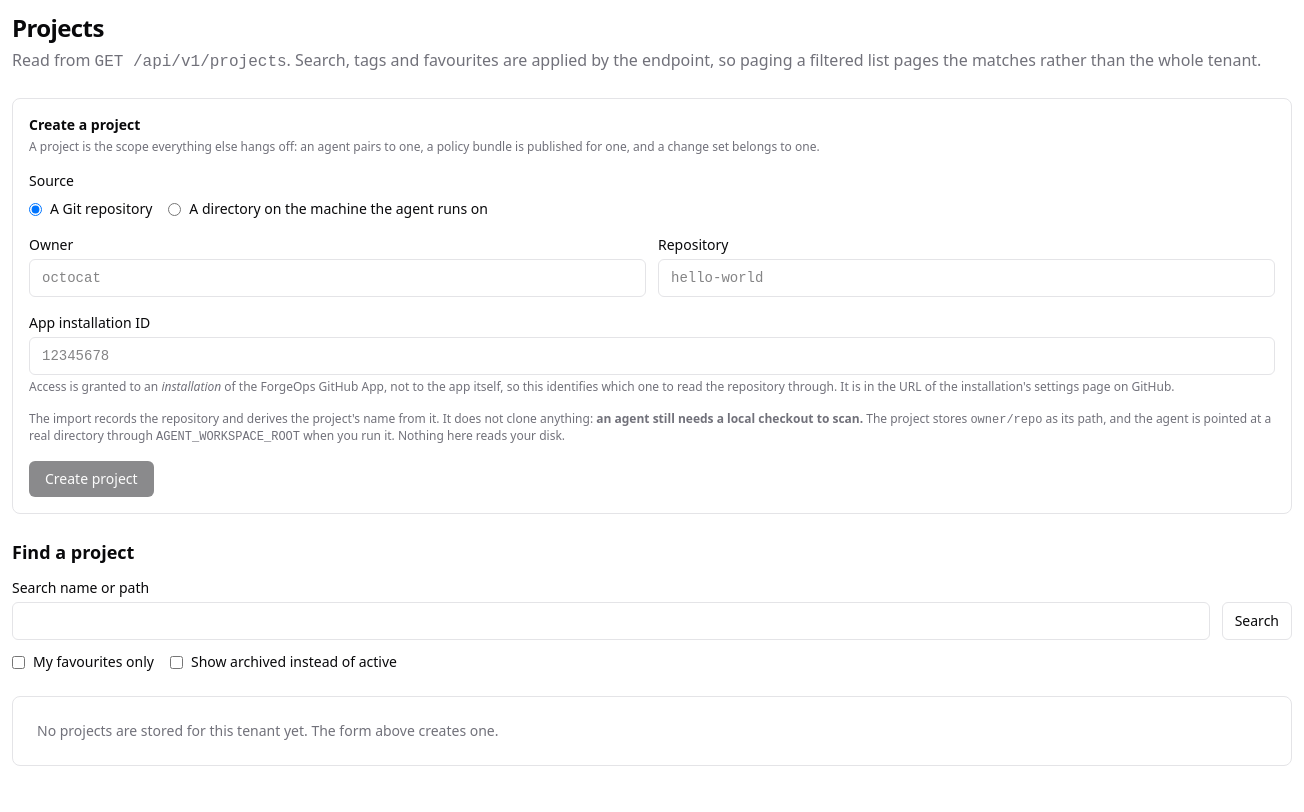
Test: creating a project › explains why the path is typed rather than chosen with a file picker
The image size is (1304, 812).
Only on the local branch now, which is the only branch that has a path at all.
Click the radio button labelled "A directory on the machine the agent runs on" at (175, 209), box [168,202,181,216]
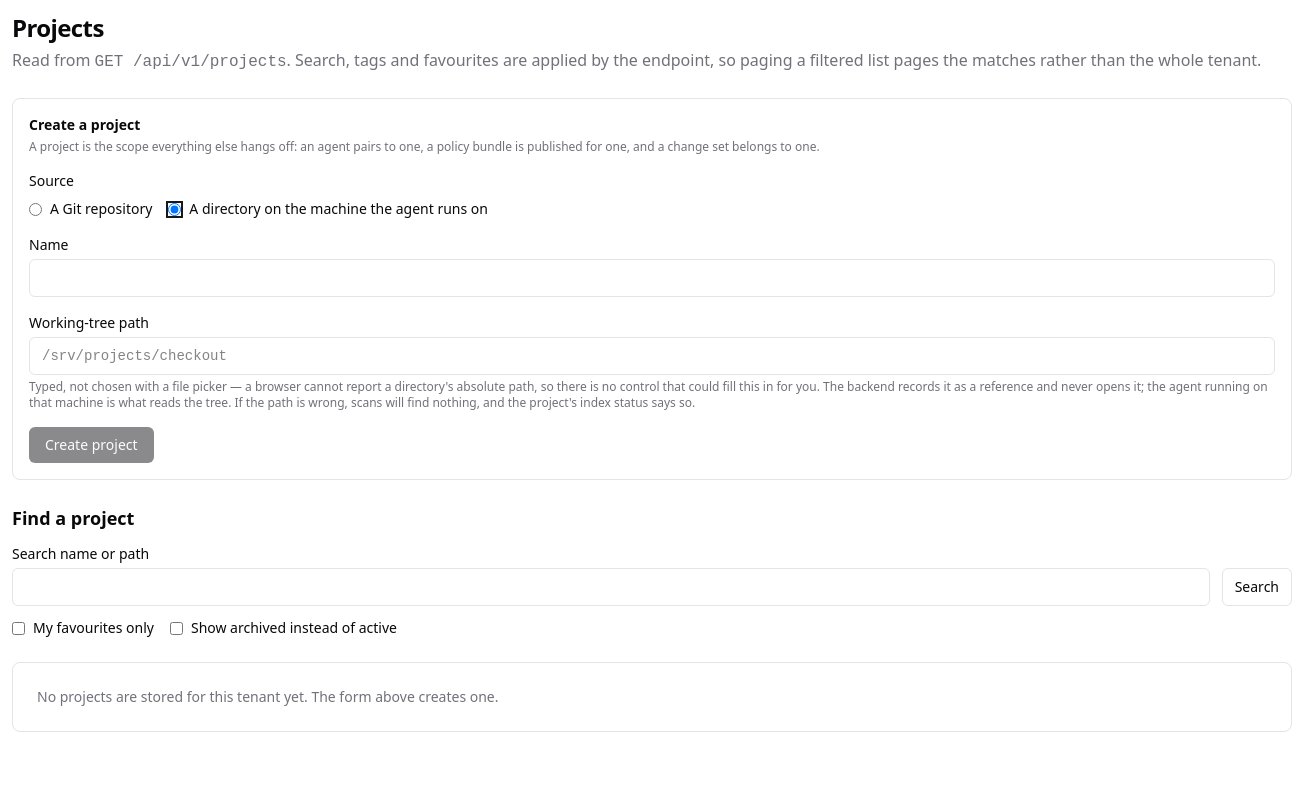
Check: the text "the backend records it as a reference and never opens it" is shown, box [29,378,1268,411]
